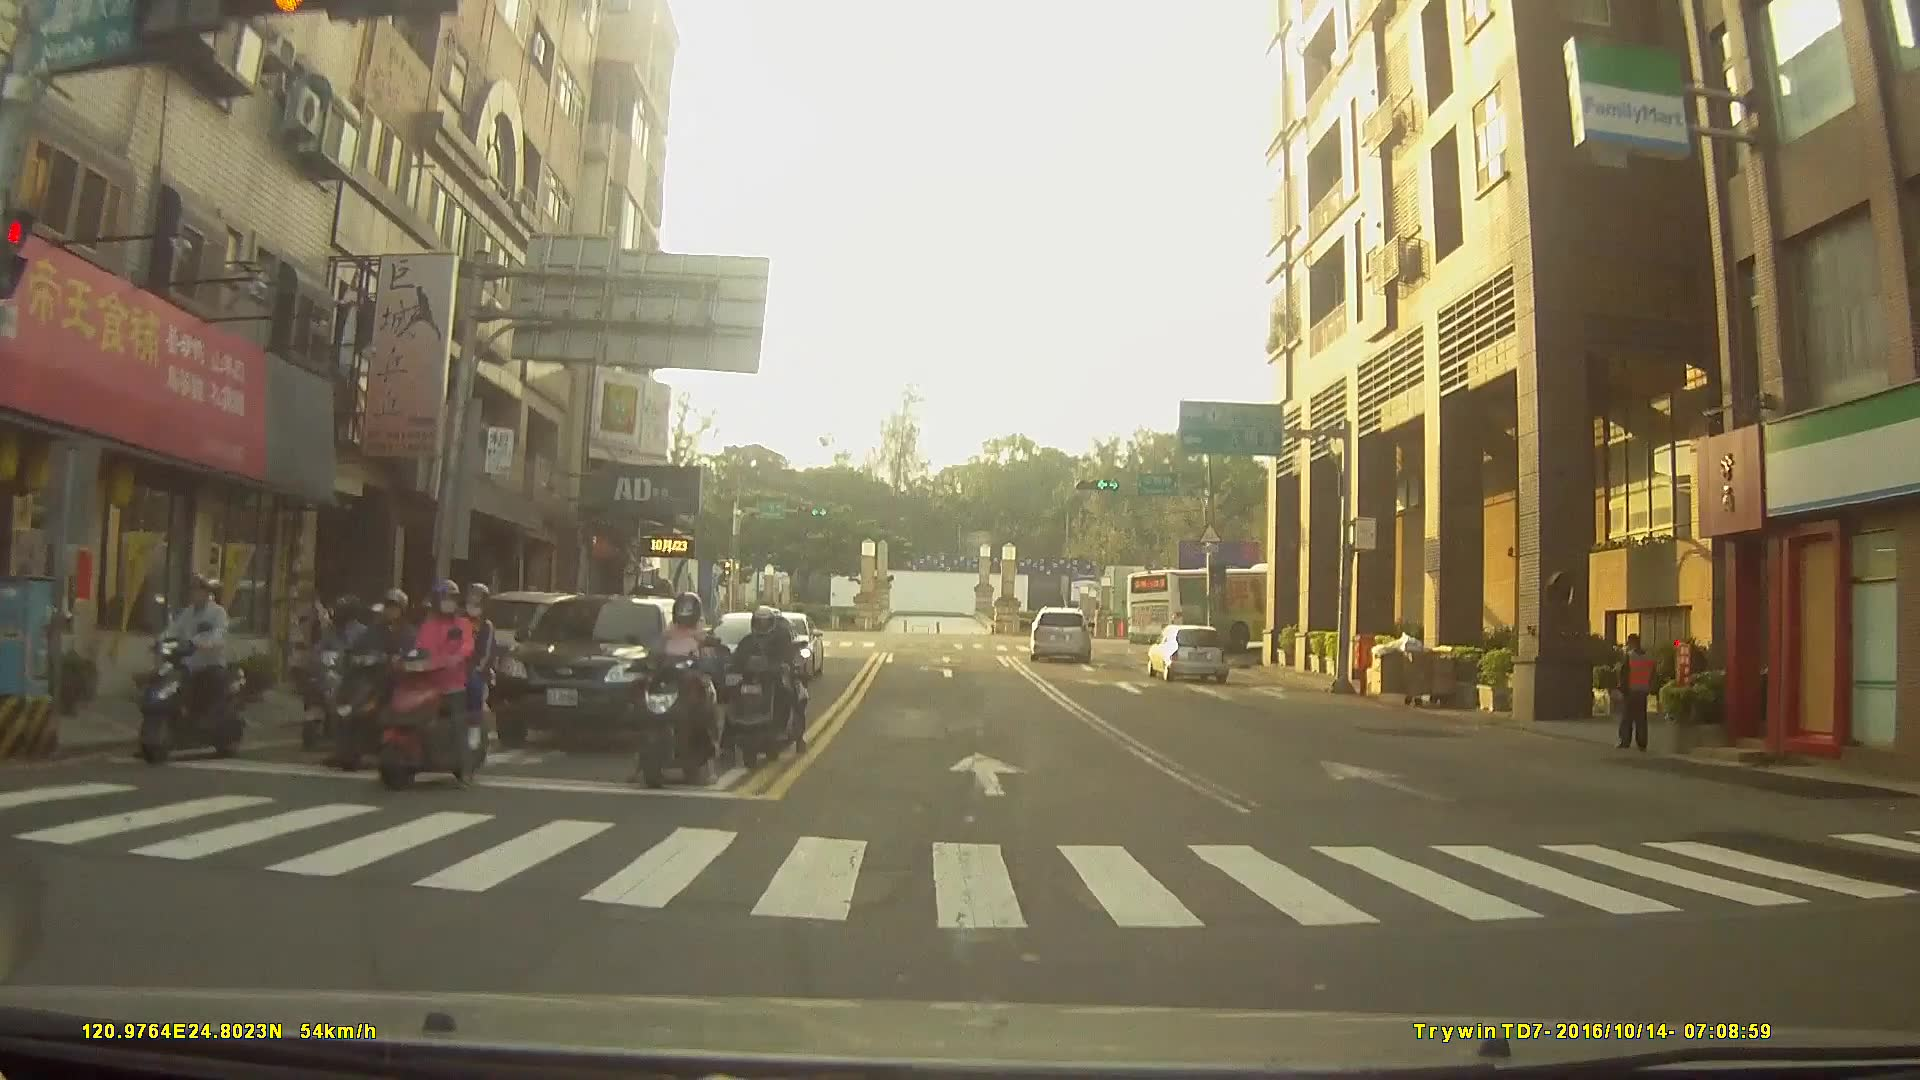pedestrian: (1606, 630, 1667, 757)
rider: (375, 577, 500, 792), (137, 566, 246, 770), (325, 583, 437, 772), (633, 591, 738, 790), (721, 605, 807, 773)
vehicle: (488, 589, 710, 749), (1124, 558, 1341, 652), (1143, 619, 1227, 678), (1027, 601, 1092, 658)
